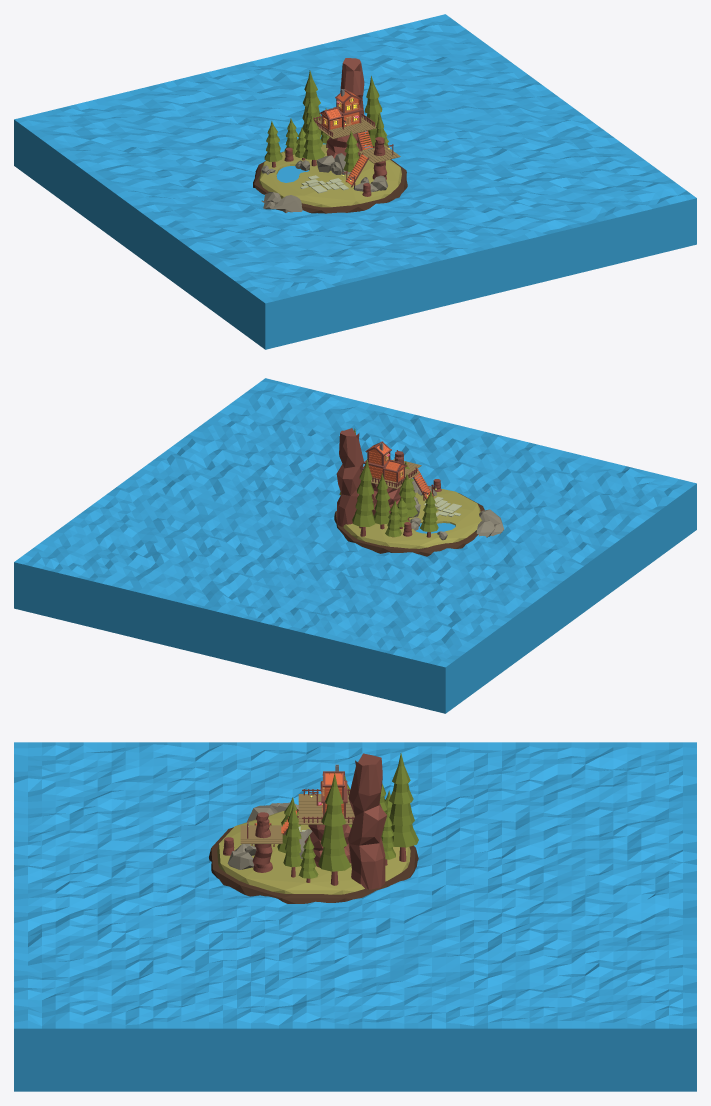
Rendered from house.glb.
3 renders of one model, top to bottom at view 1: azimuth 30°, elevation 25°; view 2: azimuth 150°, elevation 25°; view 3: azimuth 270°, elevation 25°, orthographic. The views are drawn at different scales.
Visible parts, largest first — view 1: Cube.052, Icosphere.003, Icosphere.004, Cylinder.016, Cylinder.019, Cylinder.031, Cube.034; view 2: Cube.052, Icosphere.003, Cylinder.016, Icosphere.004, Cylinder.034, Cylinder.017; view 3: Cube.052, Cylinder.016, Icosphere.003, Icosphere.004, Cylinder.019, Cylinder.034, Cube.034, Cylinder.033, Cube.043, Cylinder.015, Cylinder.020.
Boxes of the visible parts, <box> form: Cube.052: <box>14,14,696,349</box>; Icosphere.003: <box>259,144,401,207</box>; Icosphere.004: <box>253,152,407,213</box>; Cylinder.016: <box>340,58,364,151</box>; Cylinder.019: <box>363,76,383,147</box>; Cylinder.031: <box>302,115,325,166</box>; Cube.034: <box>315,116,376,138</box>; Cube.052: <box>14,378,696,713</box>; Icosphere.003: <box>343,489,482,548</box>; Cylinder.016: <box>336,428,363,526</box>; Icosphere.004: <box>334,493,484,556</box>; Cylinder.034: <box>352,458,375,536</box>; Cylinder.017: <box>373,473,390,529</box>; Cube.052: <box>14,742,696,1091</box>; Cylinder.016: <box>347,753,386,889</box>; Icosphere.003: <box>217,811,410,894</box>; Icosphere.004: <box>209,827,418,903</box>; Cylinder.019: <box>318,772,351,885</box>; Cylinder.034: <box>389,753,418,861</box>; Cube.034: <box>298,794,354,824</box>; Cylinder.033: <box>283,802,301,877</box>; Cube.043: <box>240,825,282,843</box>; Cylinder.015: <box>304,824,350,867</box>; Cylinder.020: <box>298,834,318,882</box>.
Bounding box in the file's own units: 573 × 178 × 579.
